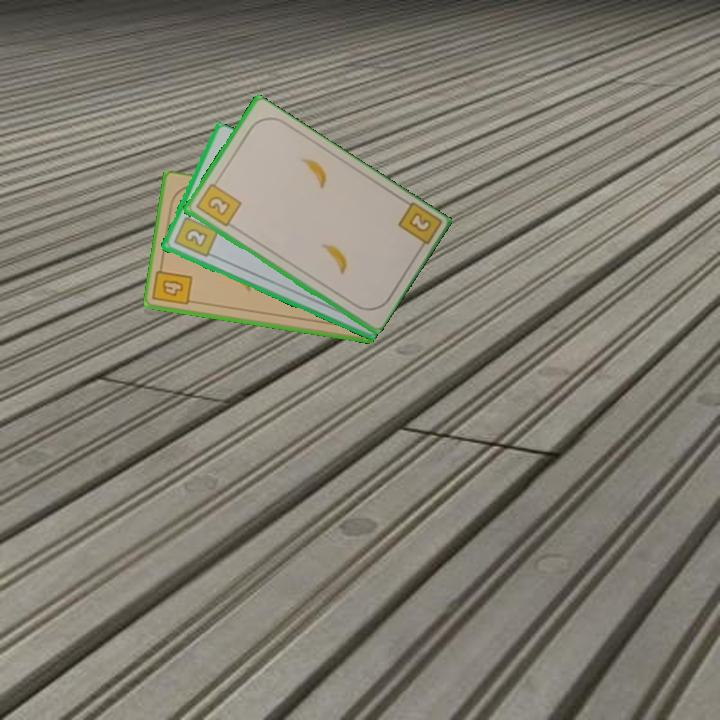2b: (192, 176, 244, 230), (394, 199, 442, 256), (170, 208, 220, 260)
4b: (150, 261, 196, 308)
